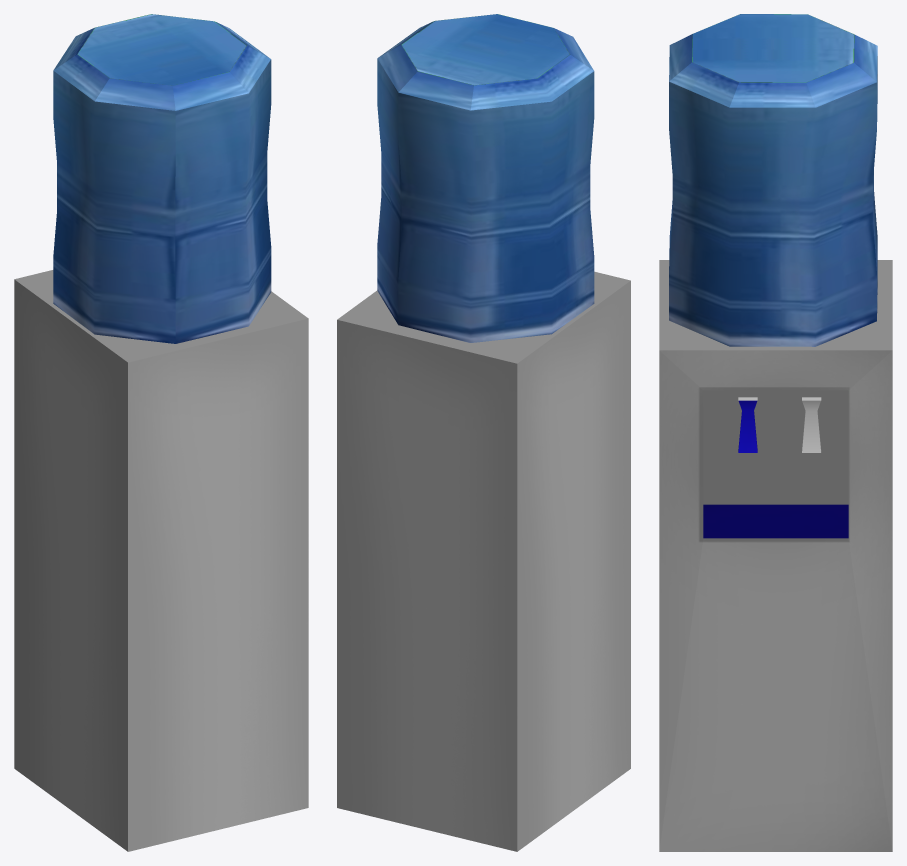
The model's file is botellon agua.FBX.
3 views of the same model, side by side, from view 1: azimuth 30°, elevation 25°; view 2: azimuth 150°, elevation 25°; view 3: azimuth 270°, elevation 25° (orthographic). The views are drawn at different scales.
Parts seen in each view (by area): view 1: Box008, Cylinder001; view 2: Box008, Cylinder001; view 3: Box008, Cylinder001, Box010, Box009.
Part boxes in pixels (x1,y1,x2,y2): Box008: (14,270,308,851); Cylinder001: (53,14,271,343); Box008: (337,271,630,851); Cylinder001: (377,14,594,342); Box008: (659,260,892,851); Cylinder001: (669,14,877,346); Box010: (738,397,757,452); Box009: (802,397,821,452).
Bounding box in the file's own units: 9.88 × 36.01 × 10.05.
